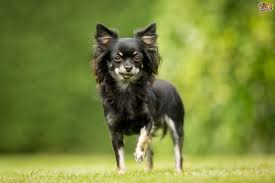Bulldog: (69, 15, 221, 180)
